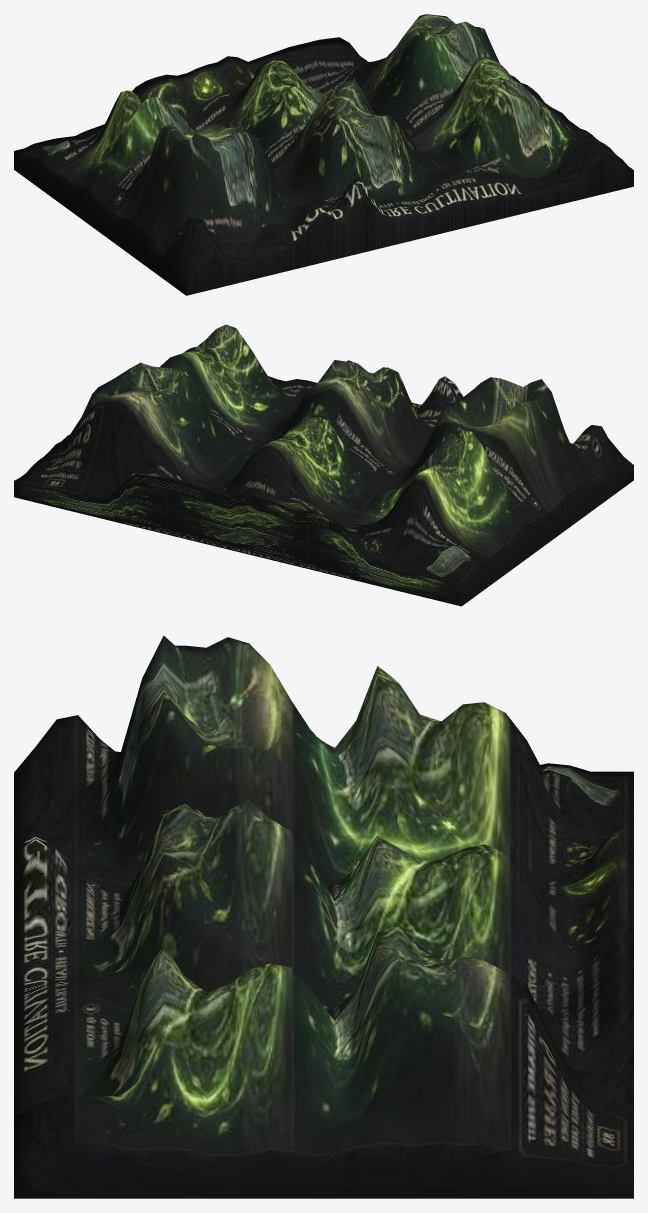
The model's file is CUL_27_Wood_Nature.glb.
3 renders of one model, top to bottom at view 1: azimuth 30°, elevation 25°; view 2: azimuth 150°, elevation 25°; view 3: azimuth 270°, elevation 25°, orthographic. The views are drawn at different scales.
Parts seen in each view (by area): view 1: CUL_27_Wood_Nature; view 2: CUL_27_Wood_Nature; view 3: CUL_27_Wood_Nature.
Boxes of the visible parts, x1=… form: CUL_27_Wood_Nature: x1=14, y1=14, x2=633, y2=295; CUL_27_Wood_Nature: x1=14, y1=324, x2=633, y2=606; CUL_27_Wood_Nature: x1=14, y1=635, x2=633, y2=1198.
Bounding box in the file's own units: 2 × 0.51 × 1.33.
1 material, 1 textured.
